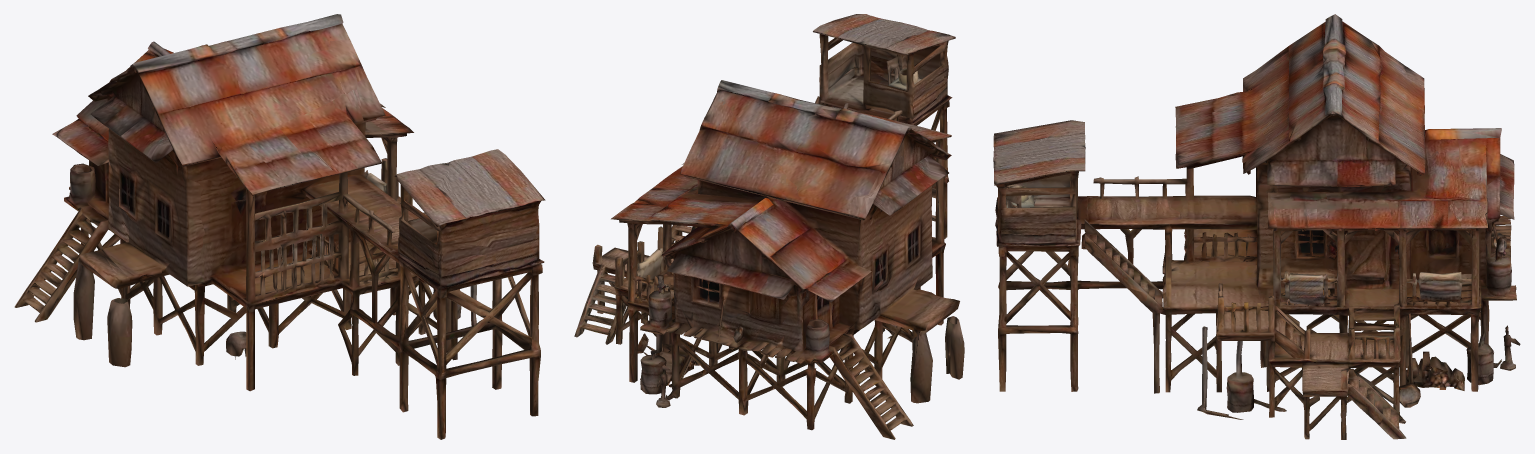
File: oldrusty.glb
3 renders of one model, left to right at view 1: azimuth 30°, elevation 25°; view 2: azimuth 150°, elevation 25°; view 3: azimuth 270°, elevation 25°, orthographic. The views are drawn at different scales.
Visible parts, largest first — view 1: Object_4; view 2: Object_4; view 3: Object_4.
Boxes of the visible parts, box(x1,y1,x2,y2) form: Object_4: box(14, 14, 545, 439); Object_4: box(574, 14, 964, 439); Object_4: box(993, 14, 1520, 439).
Size of the model in its own units: 0.8214 by 0.5701 by 0.9995.
Materials: 1 (1 with a texture image).
